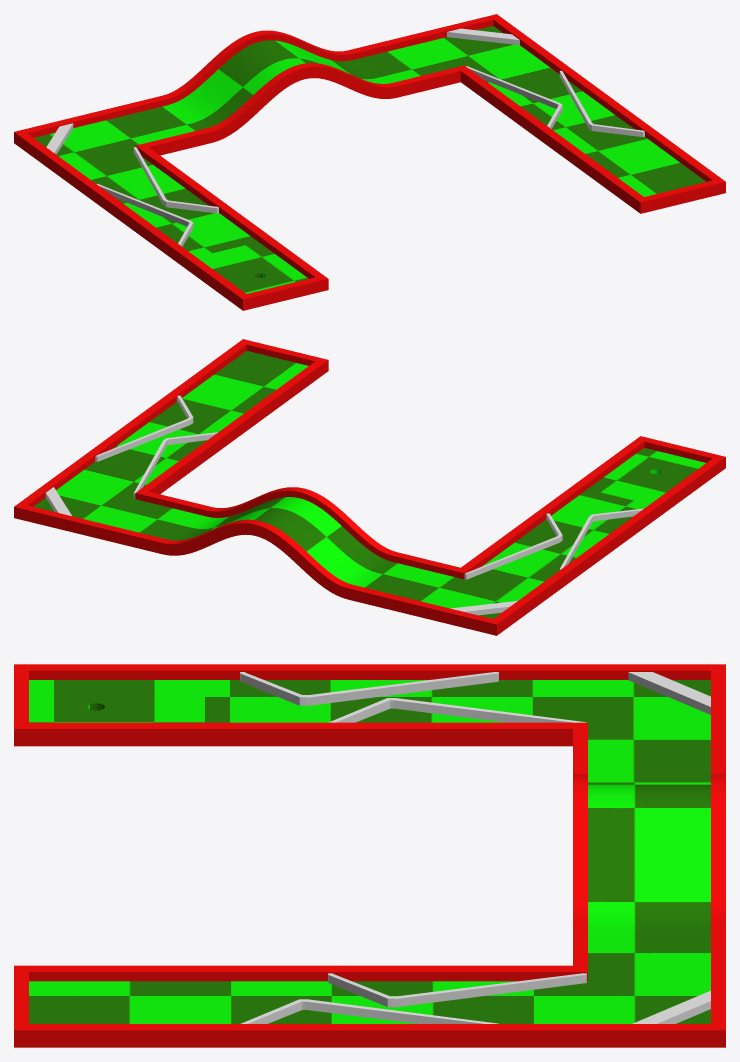
Rendered from Track13 1.fbx.
3 views of the same model, one above another, from view 1: azimuth 30°, elevation 25°; view 2: azimuth 150°, elevation 25°; view 3: azimuth 270°, elevation 25° (orthographic). The views are drawn at different scales.
Visible parts, largest first — view 1: Track13_Track, Track13_Boundary, Track13_Extras; view 2: Track13_Track, Track13_Boundary, Track13_Extras; view 3: Track13_Track, Track13_Boundary, Track13_Extras.
Part boxes in pixels (x1,y1,x2,y2): Track13_Track: (34,26,705,293); Track13_Boundary: (14,14,725,310); Track13_Extras: (46,28,644,246); Track13_Track: (34,351,705,618); Track13_Boundary: (14,339,725,635); Track13_Extras: (45,395,643,615); Track13_Track: (29,680,710,1023); Track13_Boundary: (14,664,725,1047); Track13_Extras: (240,672,710,1023).
Bounding box in the file's own units: 492 × 51 × 405.
